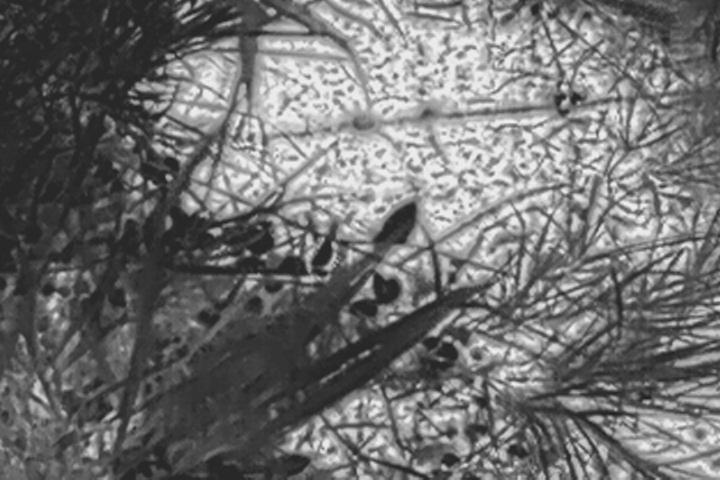landmine: (197, 8, 594, 226)
